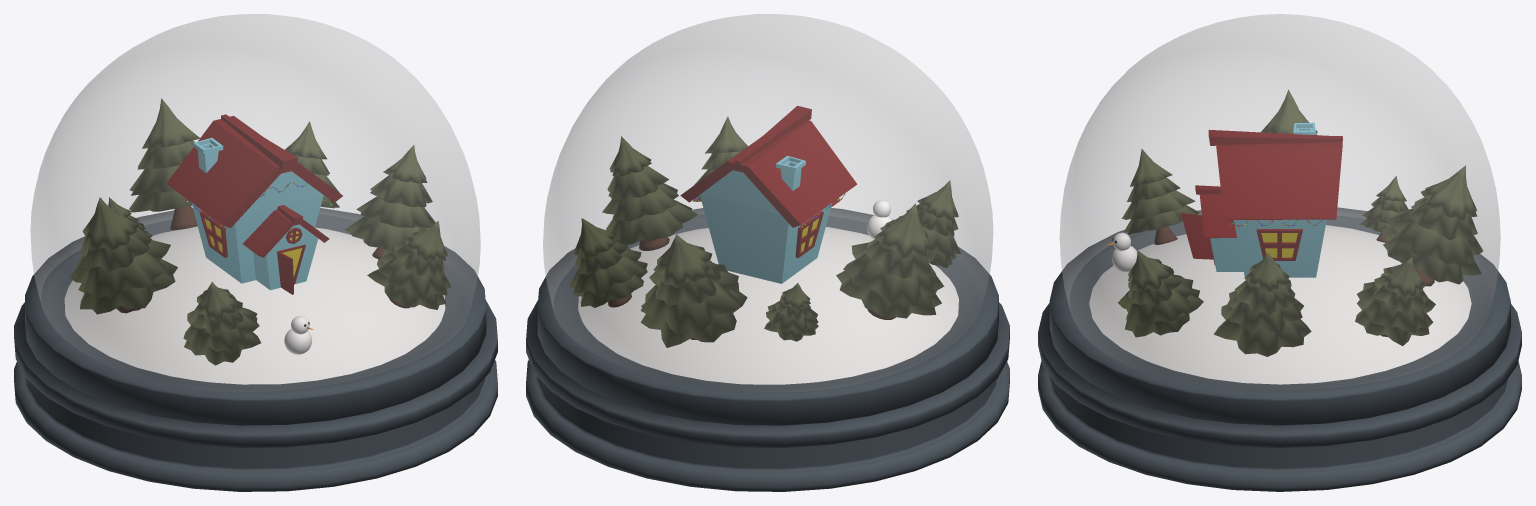
Rendered from EsferaNavidadRAOpt2.glb.
The picture shows the model from 3 angles, left to right: view 1: azimuth 30°, elevation 25°; view 2: azimuth 150°, elevation 25°; view 3: azimuth 270°, elevation 25°; orthographic projection.
Visible parts, largest first — view 1: Círculo.001; view 2: Círculo.001; view 3: Círculo.001.
Part boxes in pixels (box(x1,y1,x2,y2)): Círculo.001: box(14, 14, 497, 491); Círculo.001: box(526, 14, 1009, 491); Círculo.001: box(1038, 14, 1521, 491).
Size of the model in its own units: 2.55 by 2.04 by 2.55.
